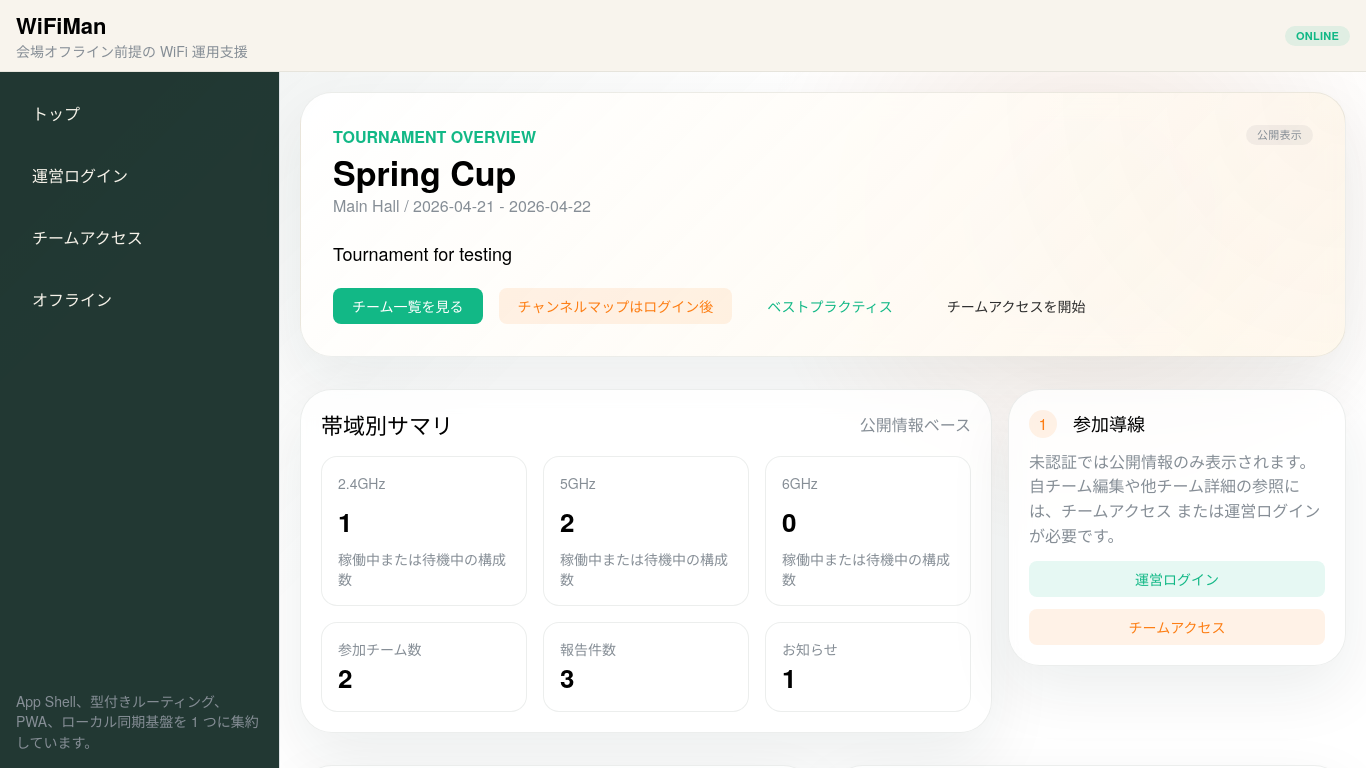
Test case: team management routes › 公開大会トップからチーム一覧へ遷移できる
Expected: the heading "Spring Cup" is shown, [333,148,516,196]
What coordinates should you click on to do the following:
click the link "チーム一覧を見る"
I would click on:
 (408, 306)
Its box is [333,288,483,324].
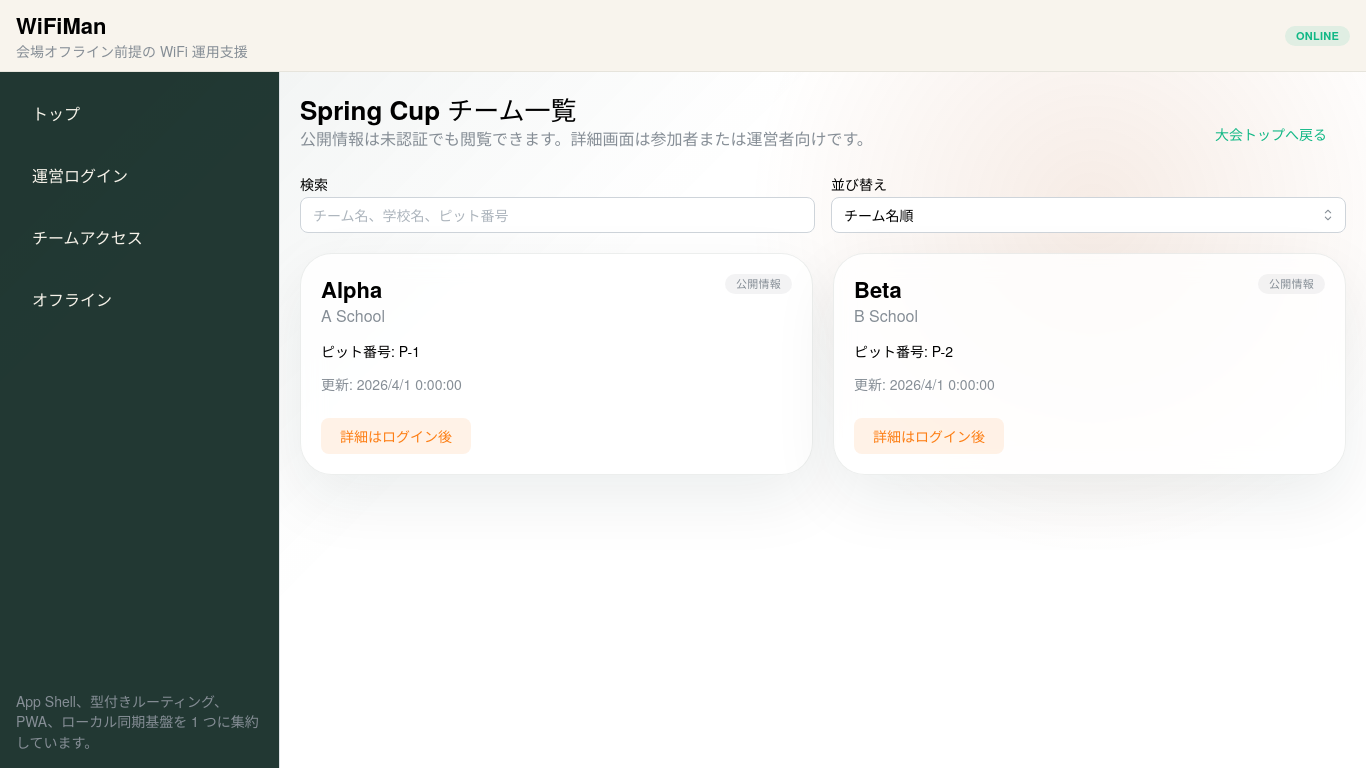
Expected: the heading "Spring Cup チーム一覧" is shown, [300,91,577,128]
Expected: the number of links "詳細はログイン後" is 2, [321,418,471,454]; [854,418,1004,454]
